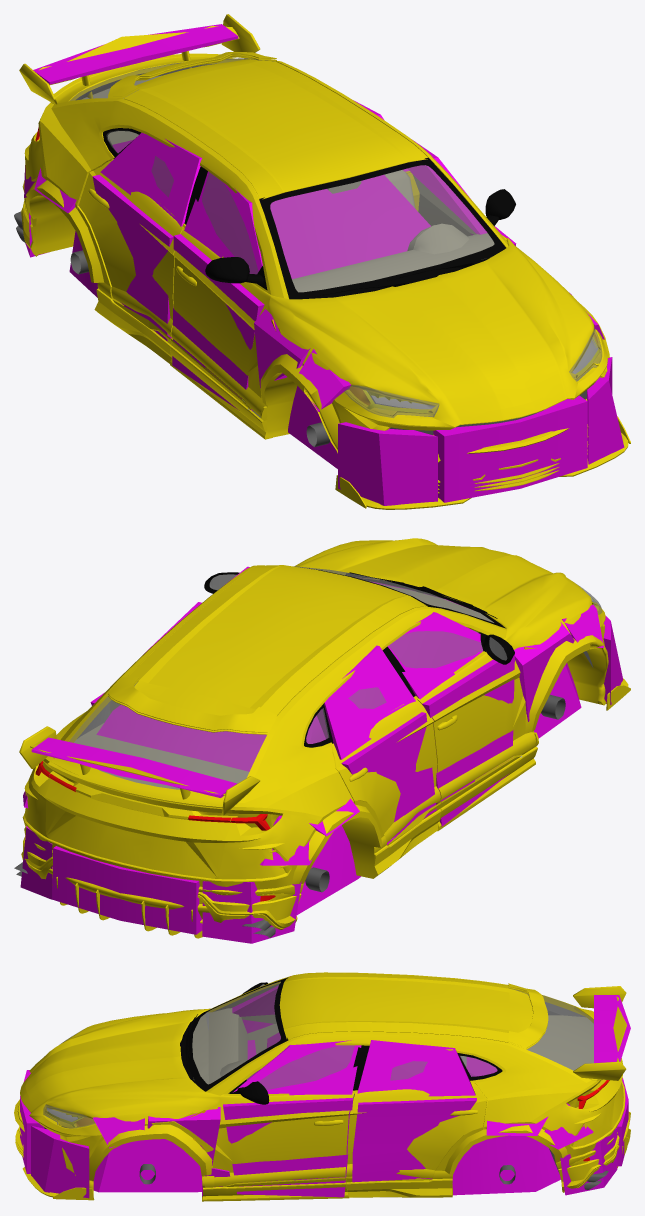
File: Lamborgini.fbx
3 views of the same model, one above another, from view 1: azimuth 30°, elevation 25°; view 2: azimuth 150°, elevation 25°; view 3: azimuth 270°, elevation 25° (orthographic). The views are drawn at different scales.
Parts seen in each view (by area): view 1: Lamborgini_base2, polySurface924, pasted__pasted__pasted__BodyCol1, pasted__pasted__BumperRCol2, polySurface934, polySurface1049, pasted__pasted__BumperRCol1, polySurface1095, polySurface1070, polySurface1072, polySurface1085, pasted__SpoilerCol (+12 smaller); view 2: Lamborgini_base2, polySurface925, polySurface934, pasted__pasted__pasted__BodyCol1, pasted__BumperRCol2, polySurface1081, polySurface1070, polySurface1095, polySurface1085, polySurface1072, polySurface1100, pasted__SpoilerCol (+13 smaller); view 3: Lamborgini_base2, polySurface933, polySurface1071, pasted__pasted__pasted__BodyCol1, polySurface924, polySurface1069, pasted__pasted__pasted__BodyCol2, polySurface1099, polySurface1078, polySurface1084, pasted__pasted__BumperRCol3, polySurface925 (+19 smaller).
Part boxes in pixels (<box>): Lamborgini_base2: <box>24,52,609,453</box>; polySurface924: <box>270,165,494,292</box>; pasted__pasted__pasted__BodyCol1: <box>69,140,430,306</box>; pasted__pasted__BumperRCol2: <box>433,395,587,502</box>; polySurface934: <box>171,225,271,413</box>; polySurface1049: <box>333,329,630,509</box>; pasted__pasted__BumperRCol1: <box>338,422,437,505</box>; polySurface1095: <box>78,158,207,337</box>; polySurface1070: <box>100,132,202,226</box>; polySurface1072: <box>92,174,173,341</box>; polySurface1085: <box>184,171,262,274</box>; pasted__SpoilerCol: <box>33,24,238,84</box>; Lamborgini_base2: <box>24,538,608,901</box>; polySurface925: <box>69,683,266,789</box>; polySurface934: <box>414,632,528,800</box>; pasted__pasted__pasted__BodyCol1: <box>96,705,397,914</box>; pasted__BumperRCol2: <box>53,846,202,934</box>; polySurface1081: <box>14,813,303,938</box>; polySurface1070: <box>317,645,415,759</box>; polySurface1095: <box>332,646,440,842</box>; polySurface1085: <box>387,612,482,699</box>; polySurface1072: <box>341,712,436,838</box>; polySurface1100: <box>421,651,514,826</box>; pasted__SpoilerCol: <box>31,737,236,797</box>; Lamborgini_base2: <box>25,972,623,1201</box>; polySurface933: <box>214,1079,354,1186</box>; polySurface1071: <box>352,1098,476,1182</box>; pasted__pasted__pasted__BodyCol1: <box>267,1032,560,1195</box>; polySurface924: <box>192,981,280,1084</box>; polySurface1069: <box>357,1040,475,1096</box>; pasted__pasted__pasted__BodyCol2: <box>93,1040,256,1192</box>; polySurface1099: <box>223,1098,352,1197</box>; polySurface1078: <box>346,1045,486,1178</box>; polySurface1084: <box>233,1040,361,1095</box>; pasted__pasted__BumperRCol3: <box>31,1126,89,1198</box>; polySurface925: <box>510,988,593,1070</box>.
Size of the model in its own units: 199 by 126 by 459.
